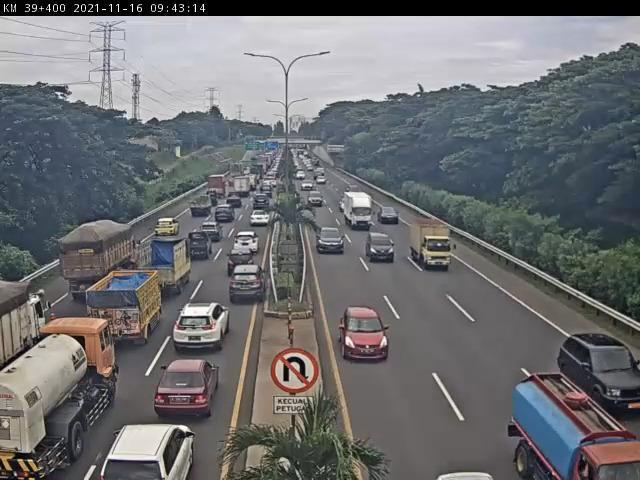car: (560, 329, 640, 412), (98, 418, 202, 480), (154, 358, 221, 421), (338, 305, 394, 366), (167, 305, 229, 355), (223, 264, 271, 310), (223, 251, 260, 284), (366, 234, 396, 266), (317, 224, 346, 254), (192, 223, 226, 248), (154, 216, 185, 240), (232, 233, 263, 257), (246, 209, 274, 231), (187, 198, 213, 221), (207, 209, 233, 230), (305, 188, 329, 210), (223, 192, 245, 215), (382, 206, 401, 225), (251, 197, 272, 214), (257, 188, 278, 203)
truck: (1, 314, 125, 480), (512, 369, 638, 480), (59, 223, 141, 296), (89, 268, 165, 343), (2, 278, 53, 369), (127, 238, 192, 301), (401, 214, 442, 257), (342, 193, 373, 230), (181, 234, 215, 266), (231, 177, 252, 203)
